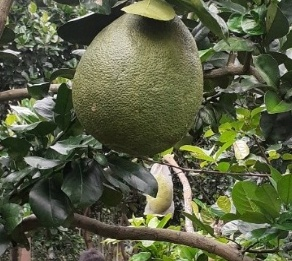Buoi: (74, 8, 197, 157)
